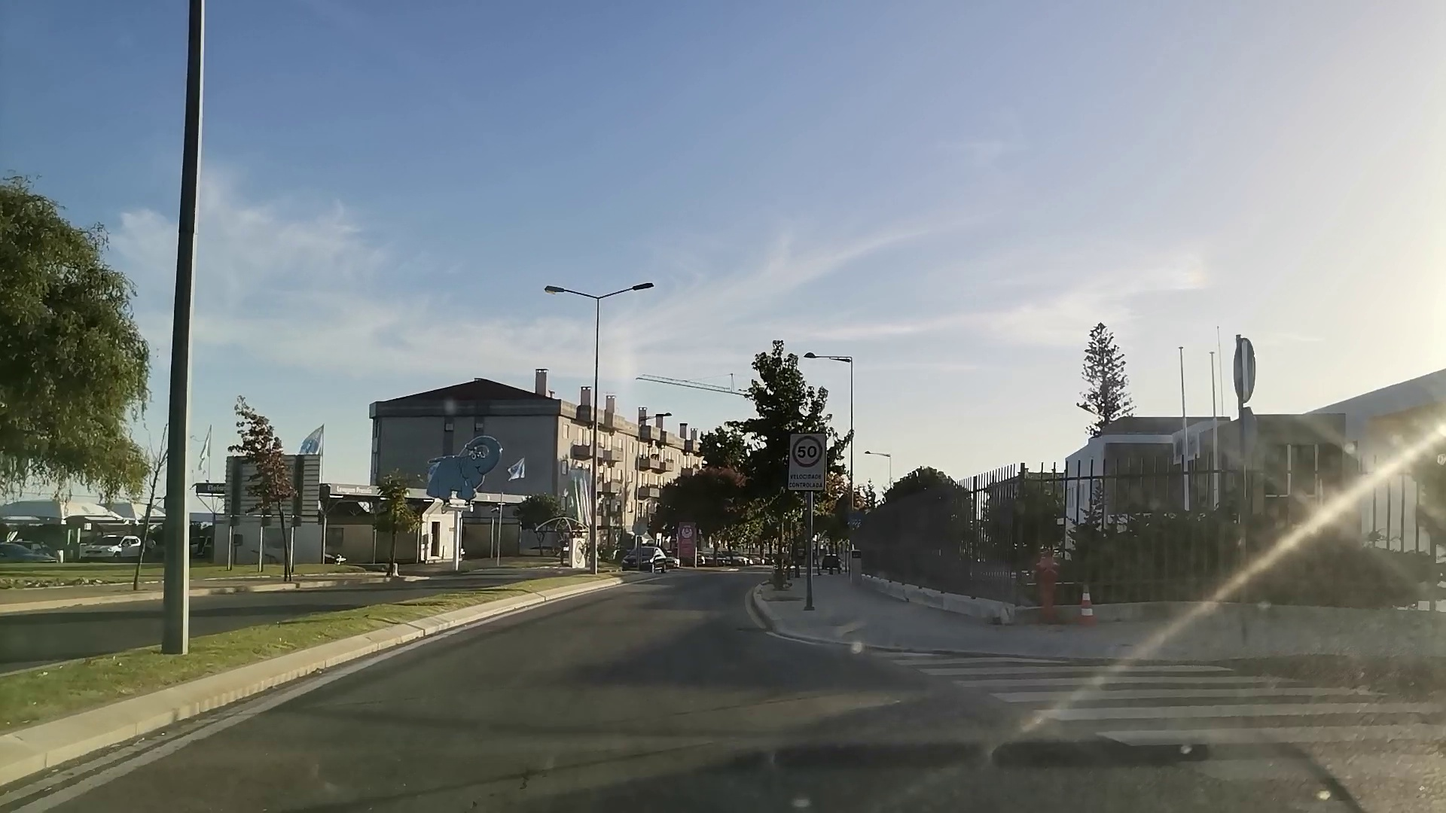Stairs: (885, 645, 1446, 813)
